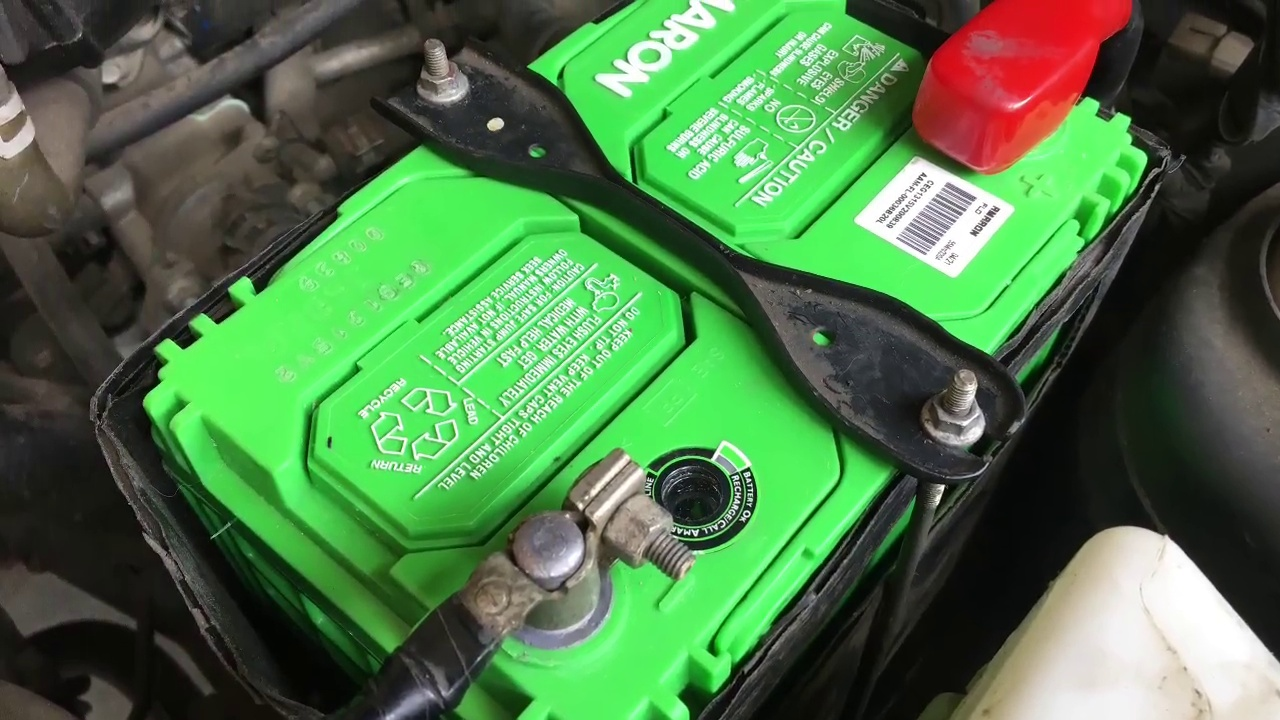battery: (147, 5, 1158, 720)
neg_connected: (409, 456, 714, 699)
pos_connected: (902, 9, 1138, 191)
